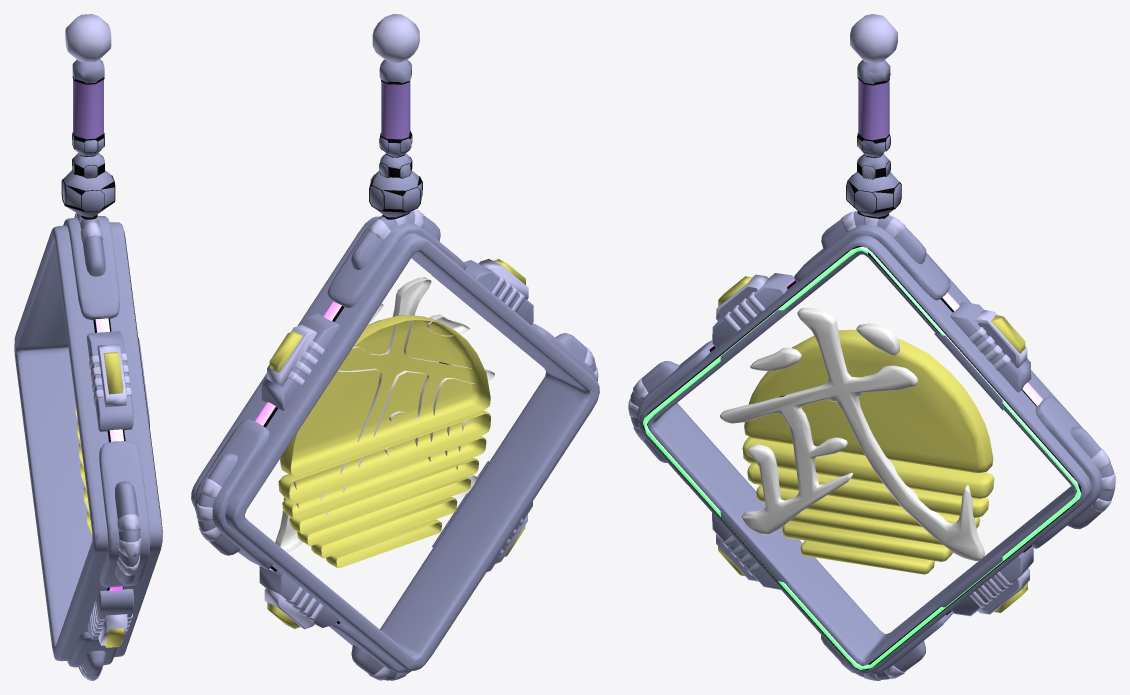
Rendered from Sun 9.gltf.
3 renders of one model, left to right at view 1: azimuth 30°, elevation 25°; view 2: azimuth 150°, elevation 25°; view 3: azimuth 270°, elevation 25°, orthographic.
Parts seen in each view (by area): view 1: Sun Base; view 2: Sun Base; view 3: Sun Base.
Boxes of the visible parts, x1,y1,x2,y2 form: Sun Base: (14, 14, 162, 680); Sun Base: (191, 14, 599, 680); Sun Base: (628, 14, 1115, 680).
Bounding box in the file's own units: 2.6 × 8.27 × 5.53.
